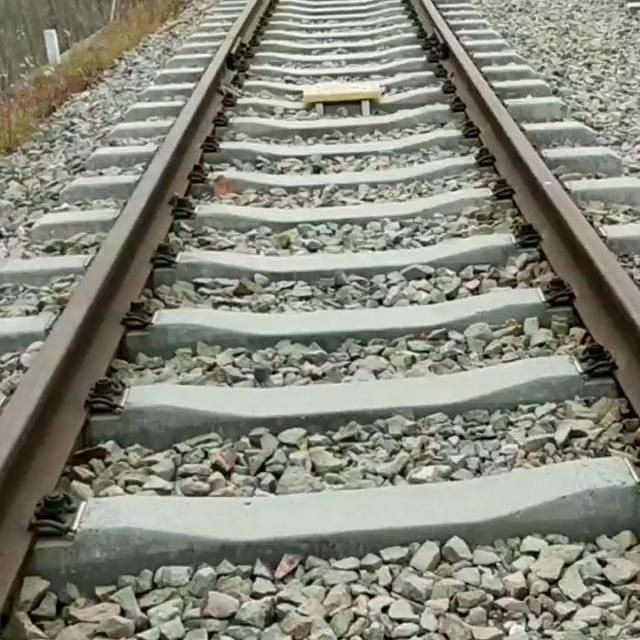rail: (0, 0, 270, 613)
